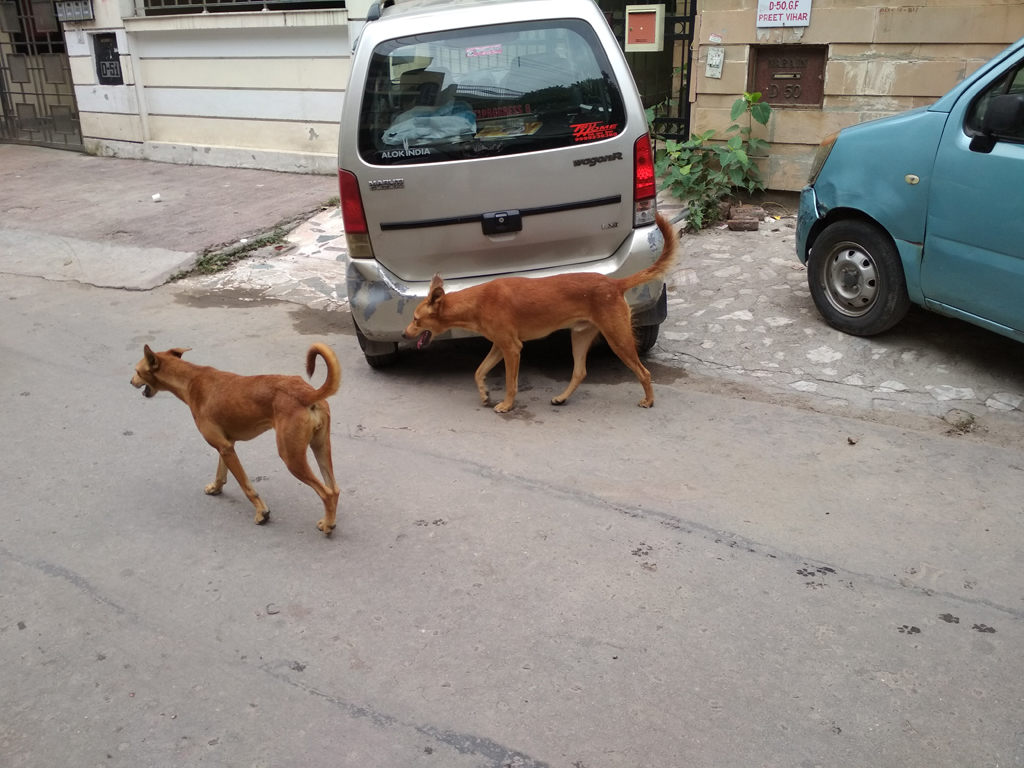dog: (401, 212, 667, 413), (132, 343, 343, 536)
